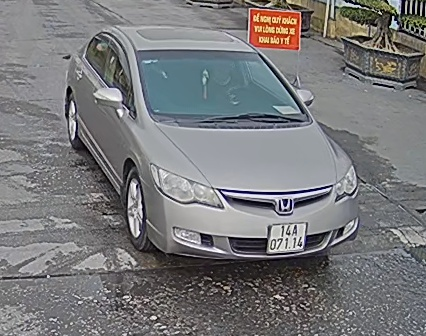vehicle plate: (264, 218, 307, 254)
